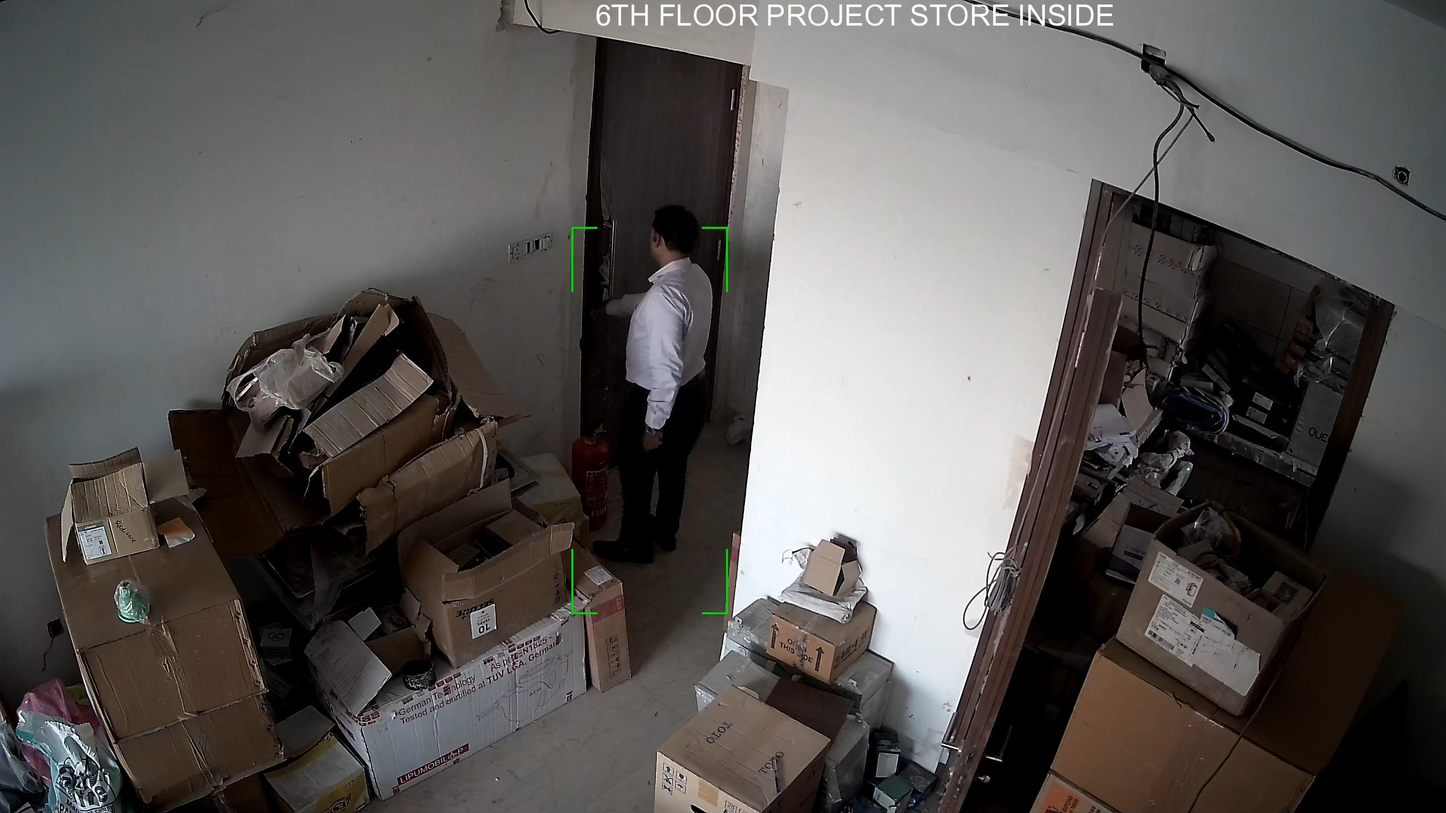Door-Close: (551, 30, 763, 627)
